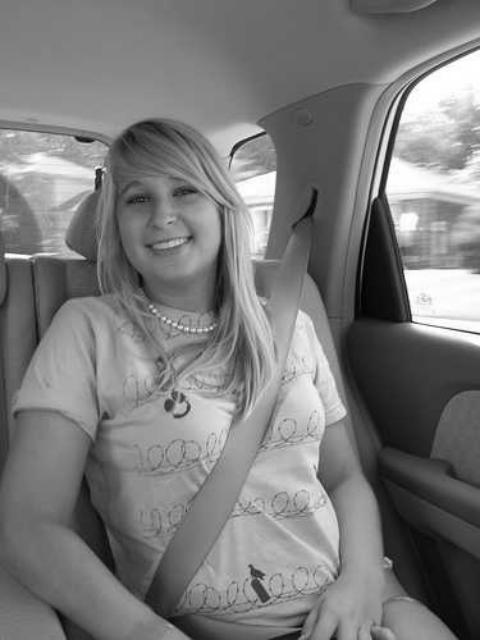SafeDriving: (166, 174, 208, 206), (119, 183, 158, 210)
Seatbelt: (136, 194, 319, 640)
